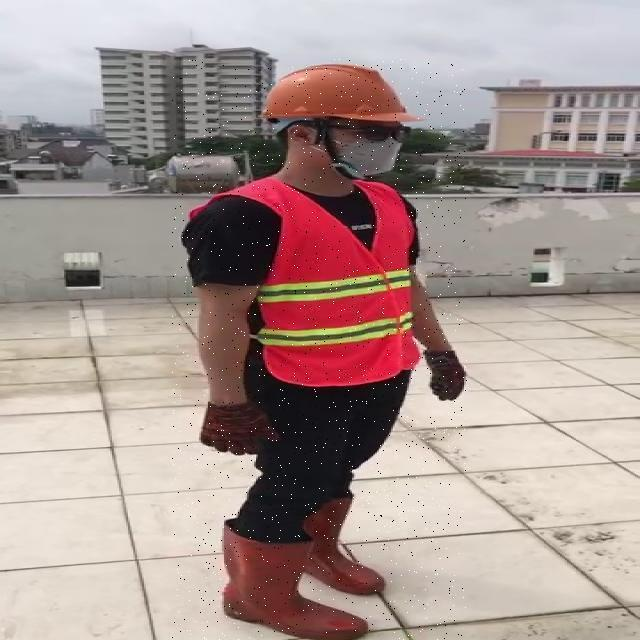boots: (221, 520, 369, 640), (302, 491, 386, 595)
gloves: (200, 400, 280, 455), (423, 349, 465, 401)
hard-hat: (260, 62, 424, 133)
person: (180, 63, 467, 639)
vest: (180, 174, 423, 388)
